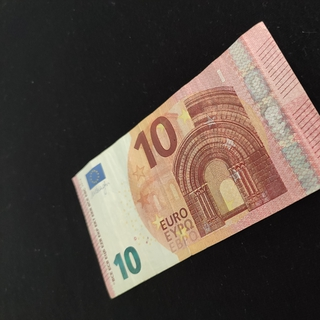10EUROFront: (70, 21, 320, 299)
